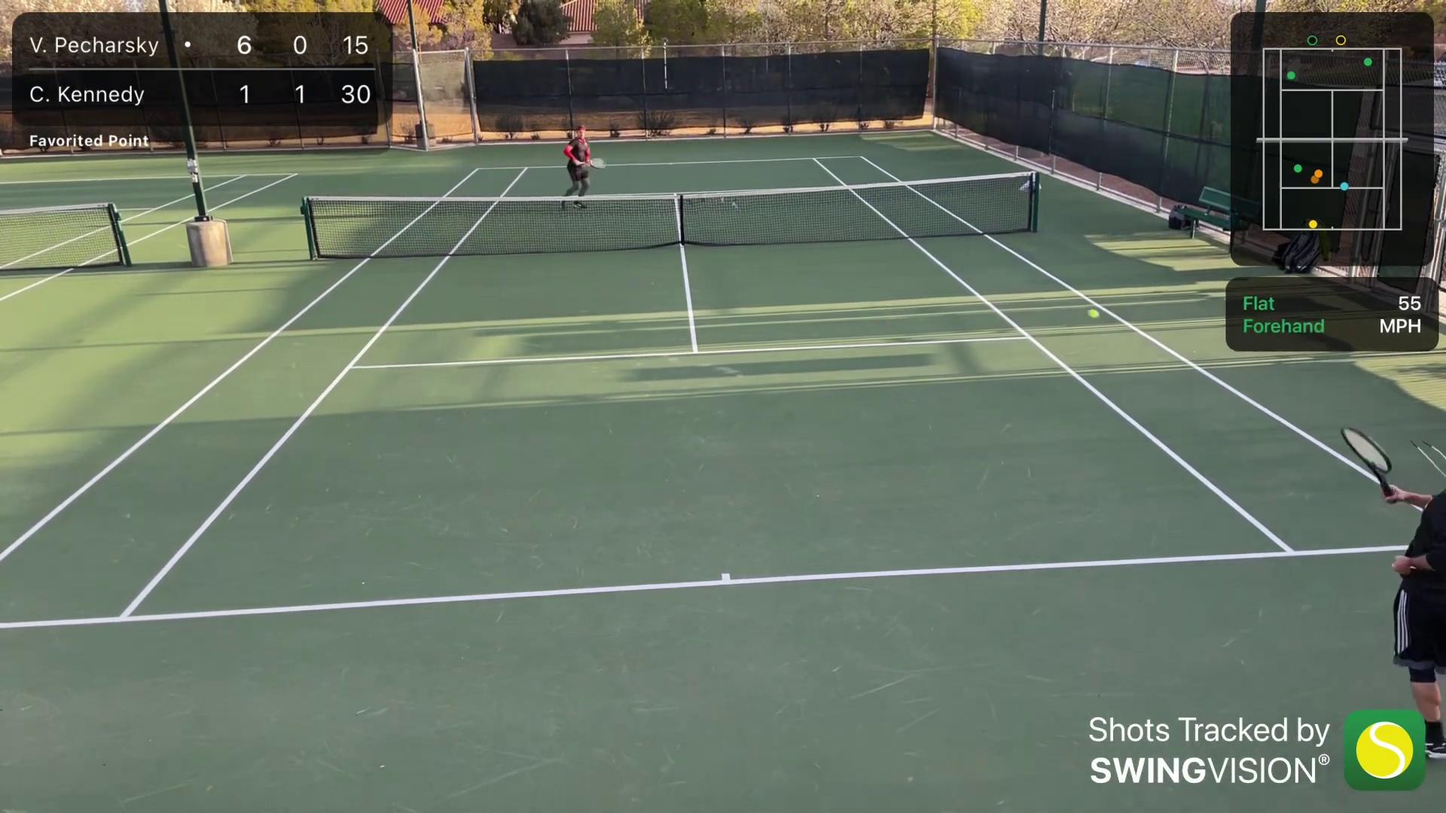ball: (317, 399, 322, 402)
